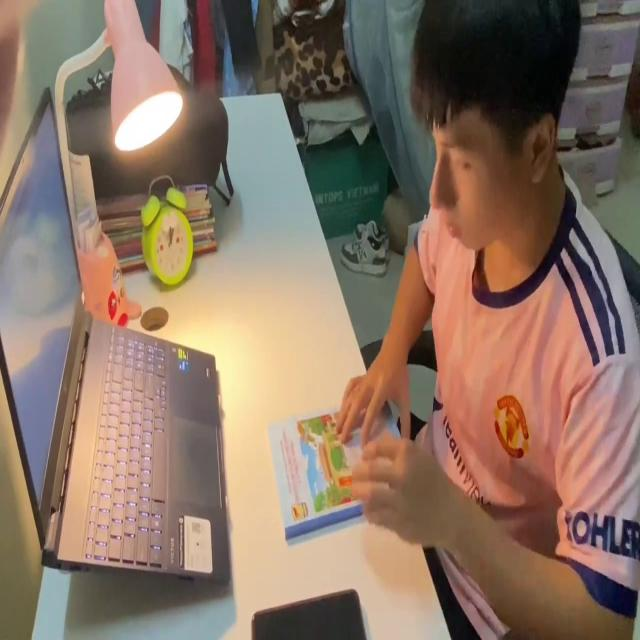book: (269, 398, 409, 541)
laptop: (0, 82, 232, 599)
phone: (252, 584, 366, 640)
student: (338, 0, 640, 640)
